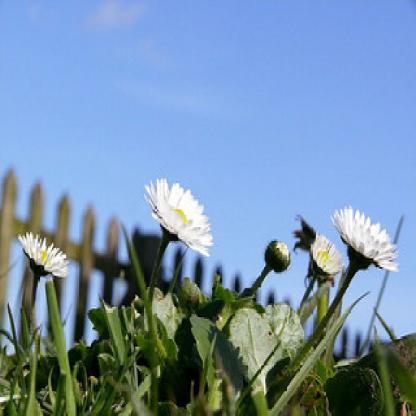ASTER: (9, 136, 403, 365)
